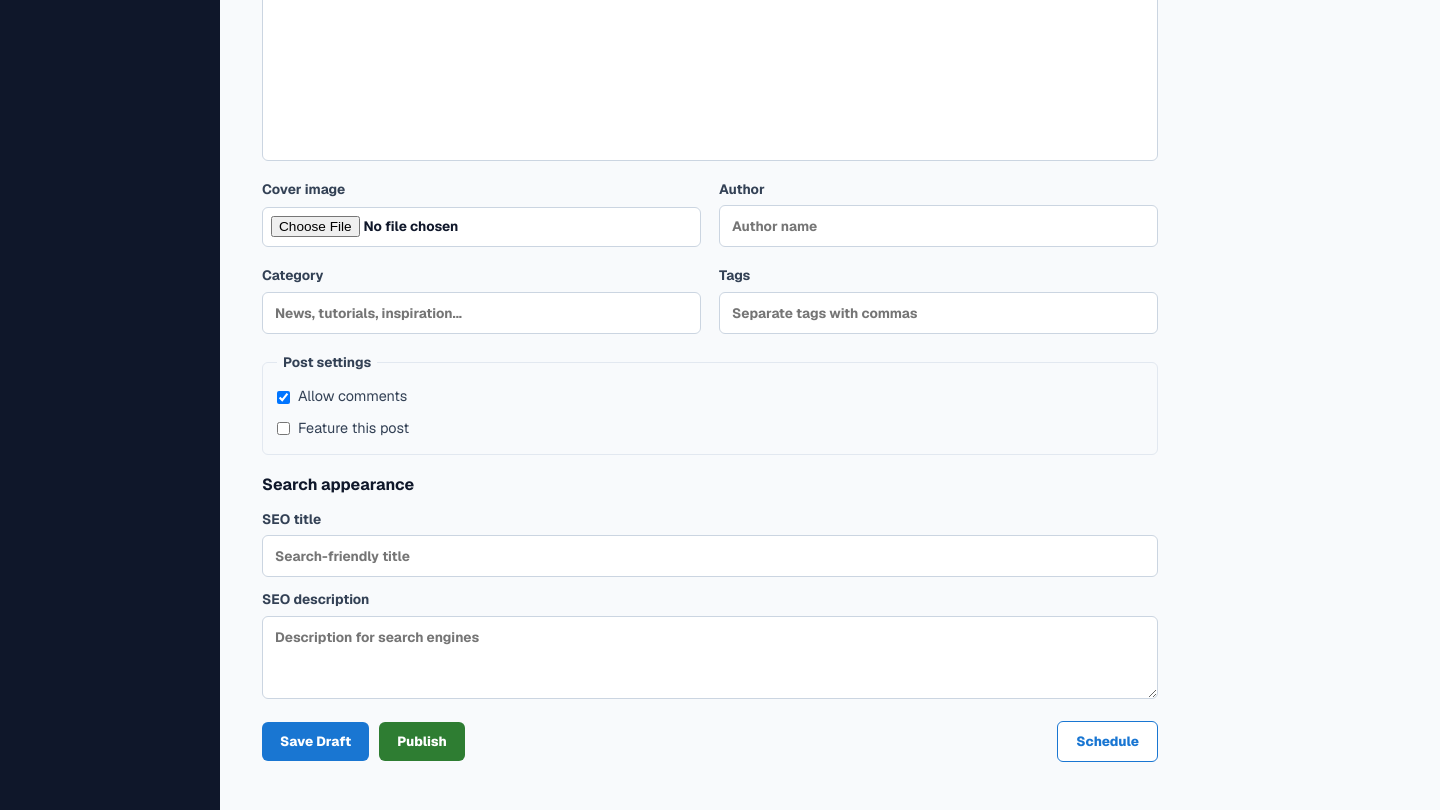
AppRoutes › renders the complete new blog form for the add-new section
The width and height of the screenshot is (1440, 810).
(page scrolled)
Expected: the file field labelled "Cover image" is shown, [262,207,701,247]
Expected: the button "Publish" is shown, [379,722,465,761]
Click the button "Schedule".
click(1108, 742)  # box [1057,721,1158,762]
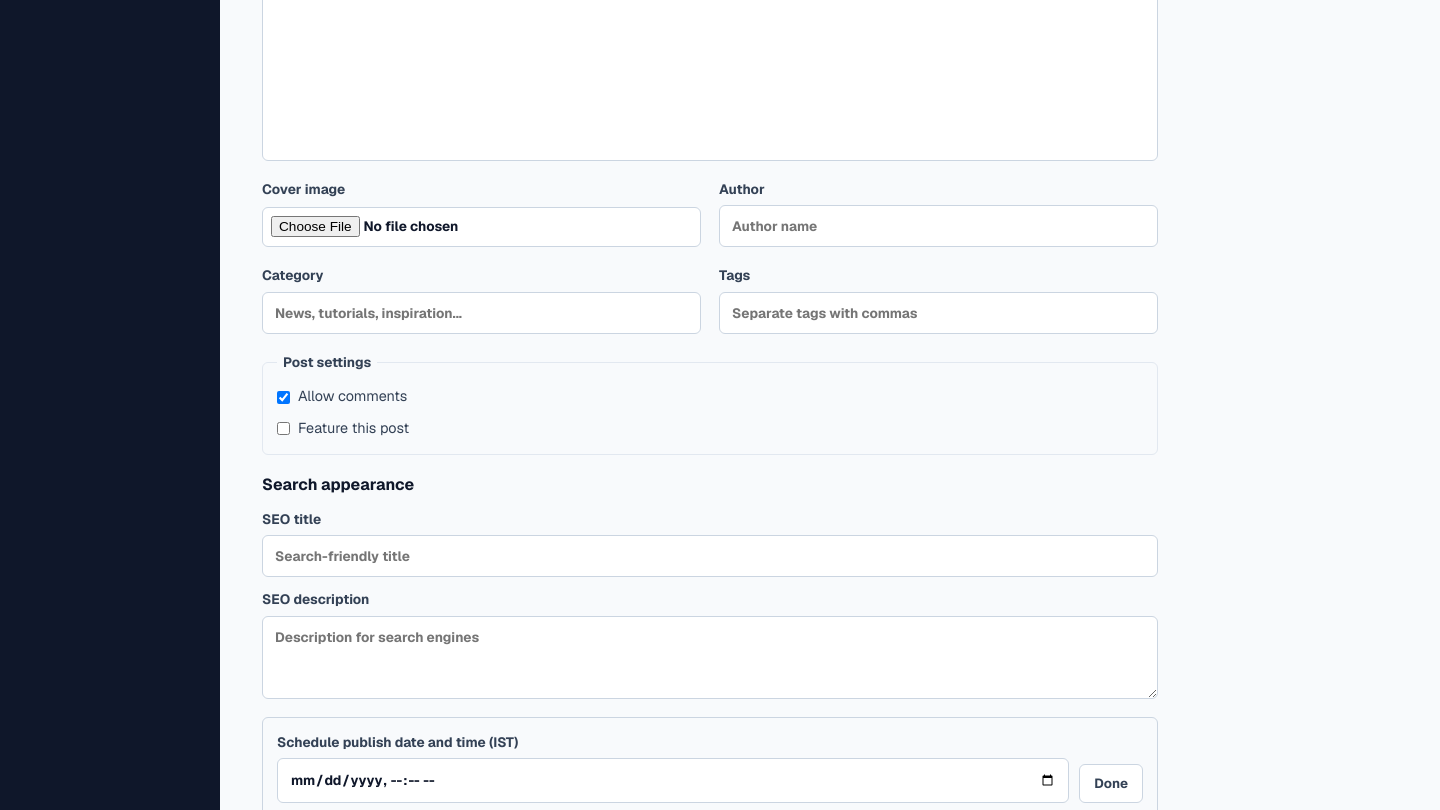
Now the field labelled "Schedule publish date and time" is shown
Type "2099-09-19T20:00" into the field labelled "Schedule publish date and time".
click(673, 781); type("2099-09-19T20:00")  # box [277,758,1069,803]
(page scrolled)
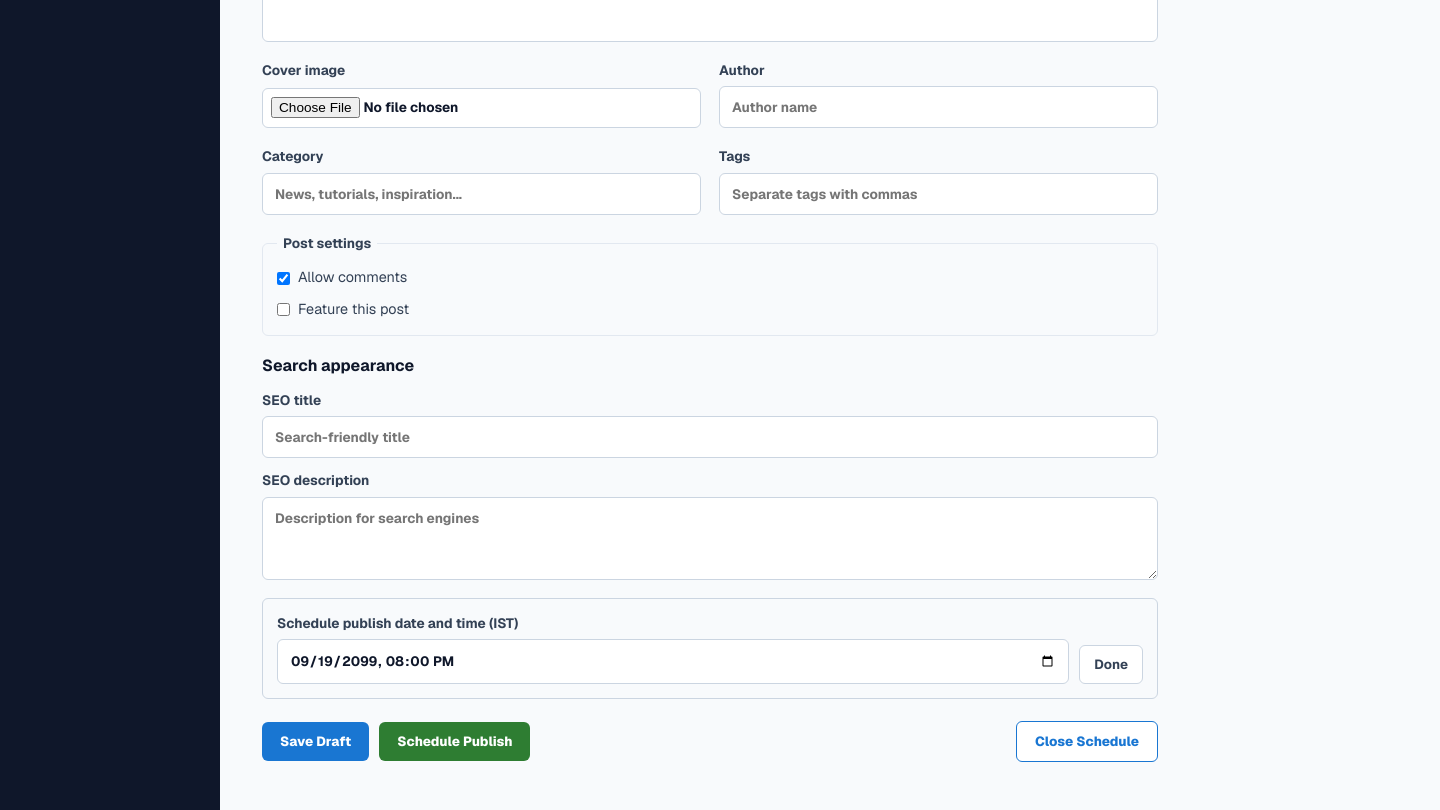
Now the button "Schedule Publish" is shown, box [379,722,530,761]
